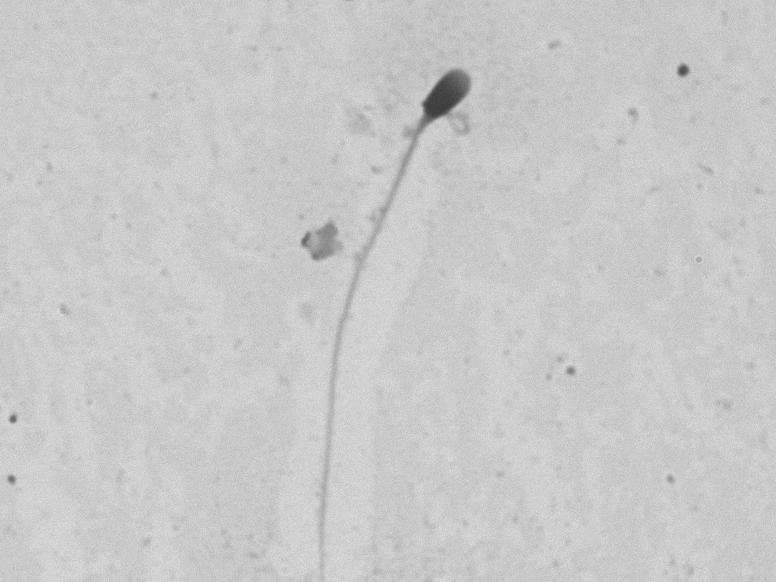Abnormal: (259, 28, 545, 569)
